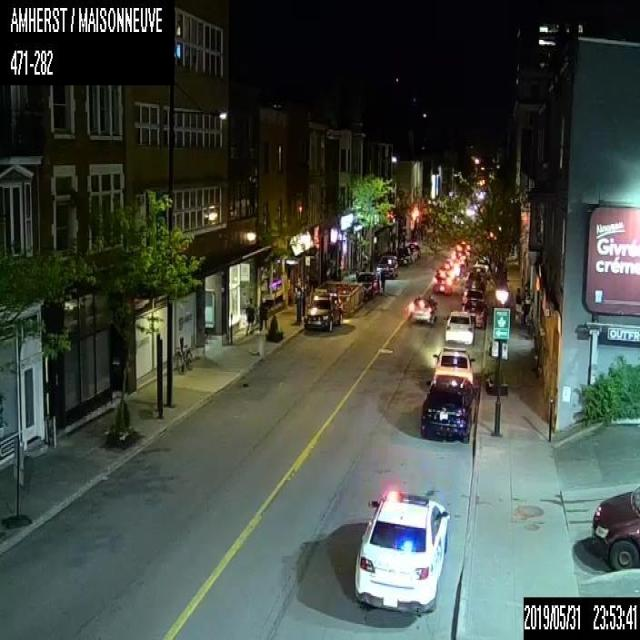pedestrian: (243, 296, 256, 335), (512, 287, 522, 324), (258, 296, 267, 329), (378, 267, 386, 292)
vehicle: (354, 488, 449, 608), (590, 484, 639, 569), (419, 376, 477, 442), (303, 290, 342, 330), (432, 347, 474, 382), (443, 309, 474, 345), (461, 298, 487, 328), (409, 295, 437, 321), (354, 271, 379, 298), (375, 254, 399, 276), (462, 288, 486, 305), (433, 274, 453, 294)
